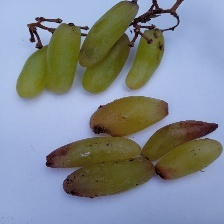grapes: (44, 25, 217, 188)
